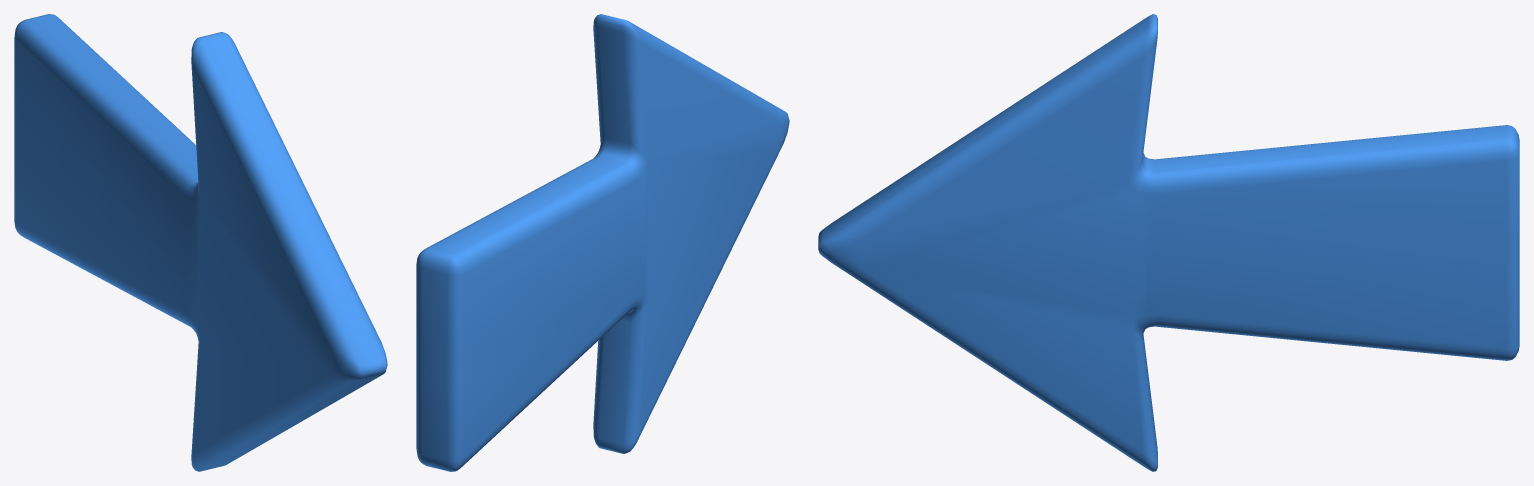
The model's file is direction_arrow(1).glb.
3 renders of one model, left to right at view 1: azimuth 30°, elevation 25°; view 2: azimuth 150°, elevation 25°; view 3: azimuth 270°, elevation 25°, orthographic. The views are drawn at different scales.
Visible parts, largest first — view 1: Arrow; view 2: Arrow; view 3: Arrow.
Boxes of the visible parts, box(x1,y1,x2,y2) form: Arrow: box(14, 14, 387, 471); Arrow: box(416, 14, 789, 471); Arrow: box(818, 14, 1519, 471).
Bounding box in the file's own units: 0.2343 × 2.11 × 3.01.
